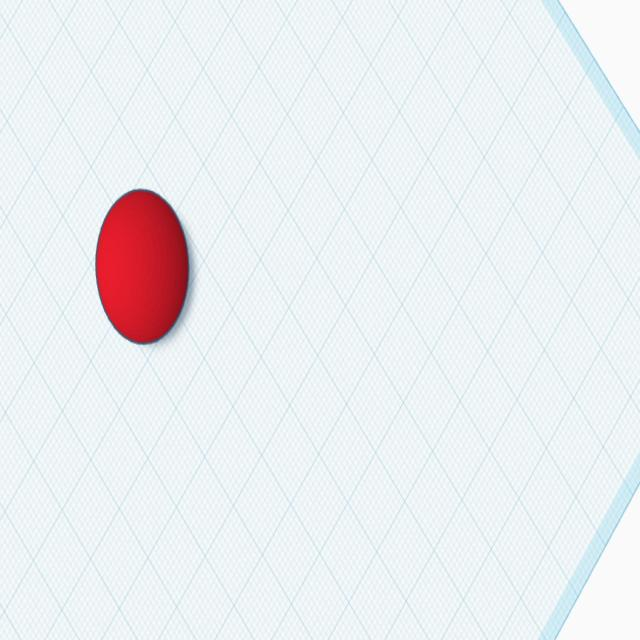sphere: (91, 184, 194, 354)
